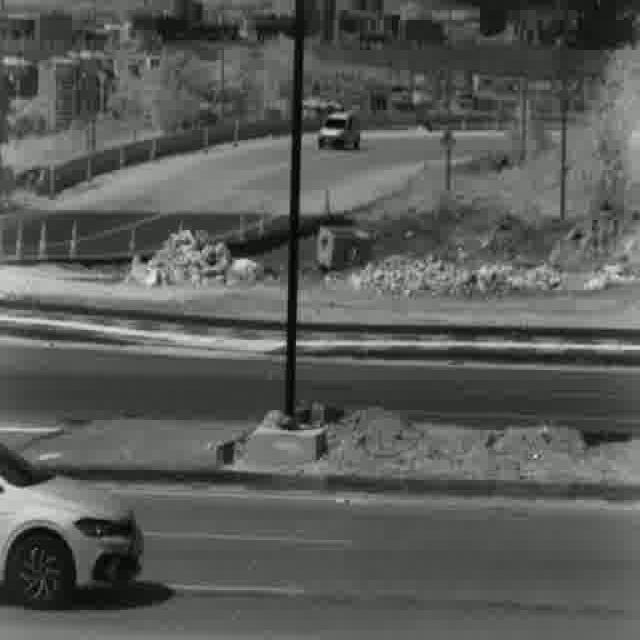Car: (0, 440, 146, 604), (318, 112, 361, 149)
